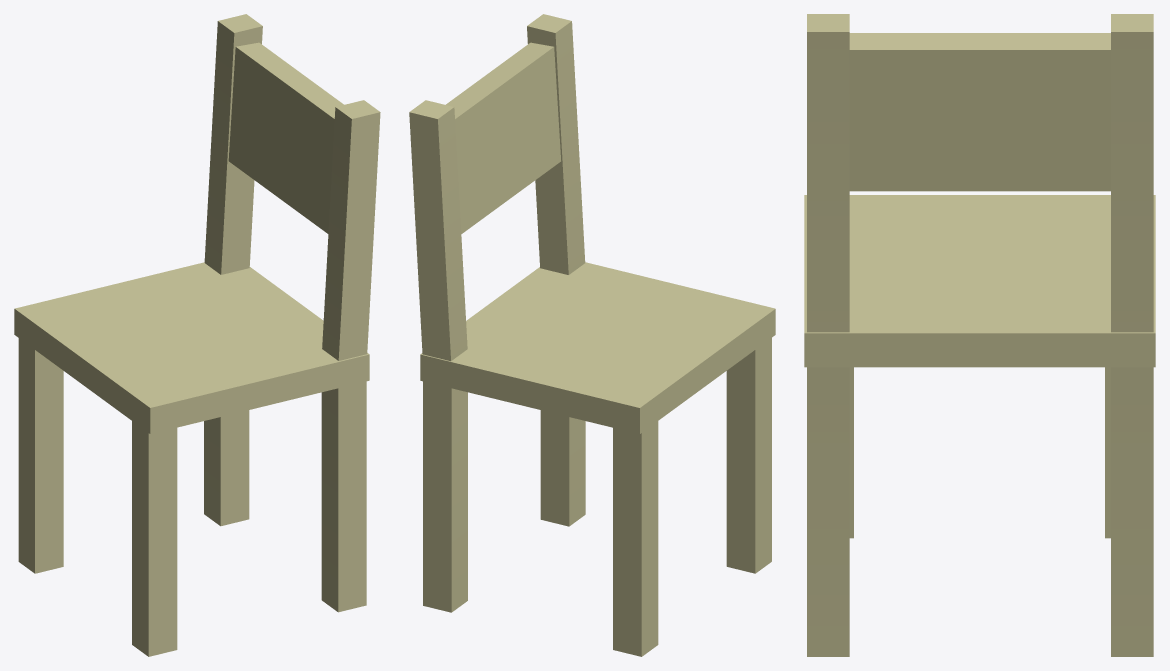
The model's file is Chaise.fbx.
3 renders of one model, left to right at view 1: azimuth 30°, elevation 25°; view 2: azimuth 150°, elevation 25°; view 3: azimuth 270°, elevation 25°, orthographic. The views are drawn at different scales.
Visible parts, largest first — view 1: chair; view 2: chair; view 3: chair.
Part boxes in pixels (bbox=[...]): chair: bbox=[14, 14, 380, 656]; chair: bbox=[409, 14, 775, 656]; chair: bbox=[804, 14, 1155, 656].
Bounding box in the file's own units: 0.4829 × 0.9778 × 0.4911.
